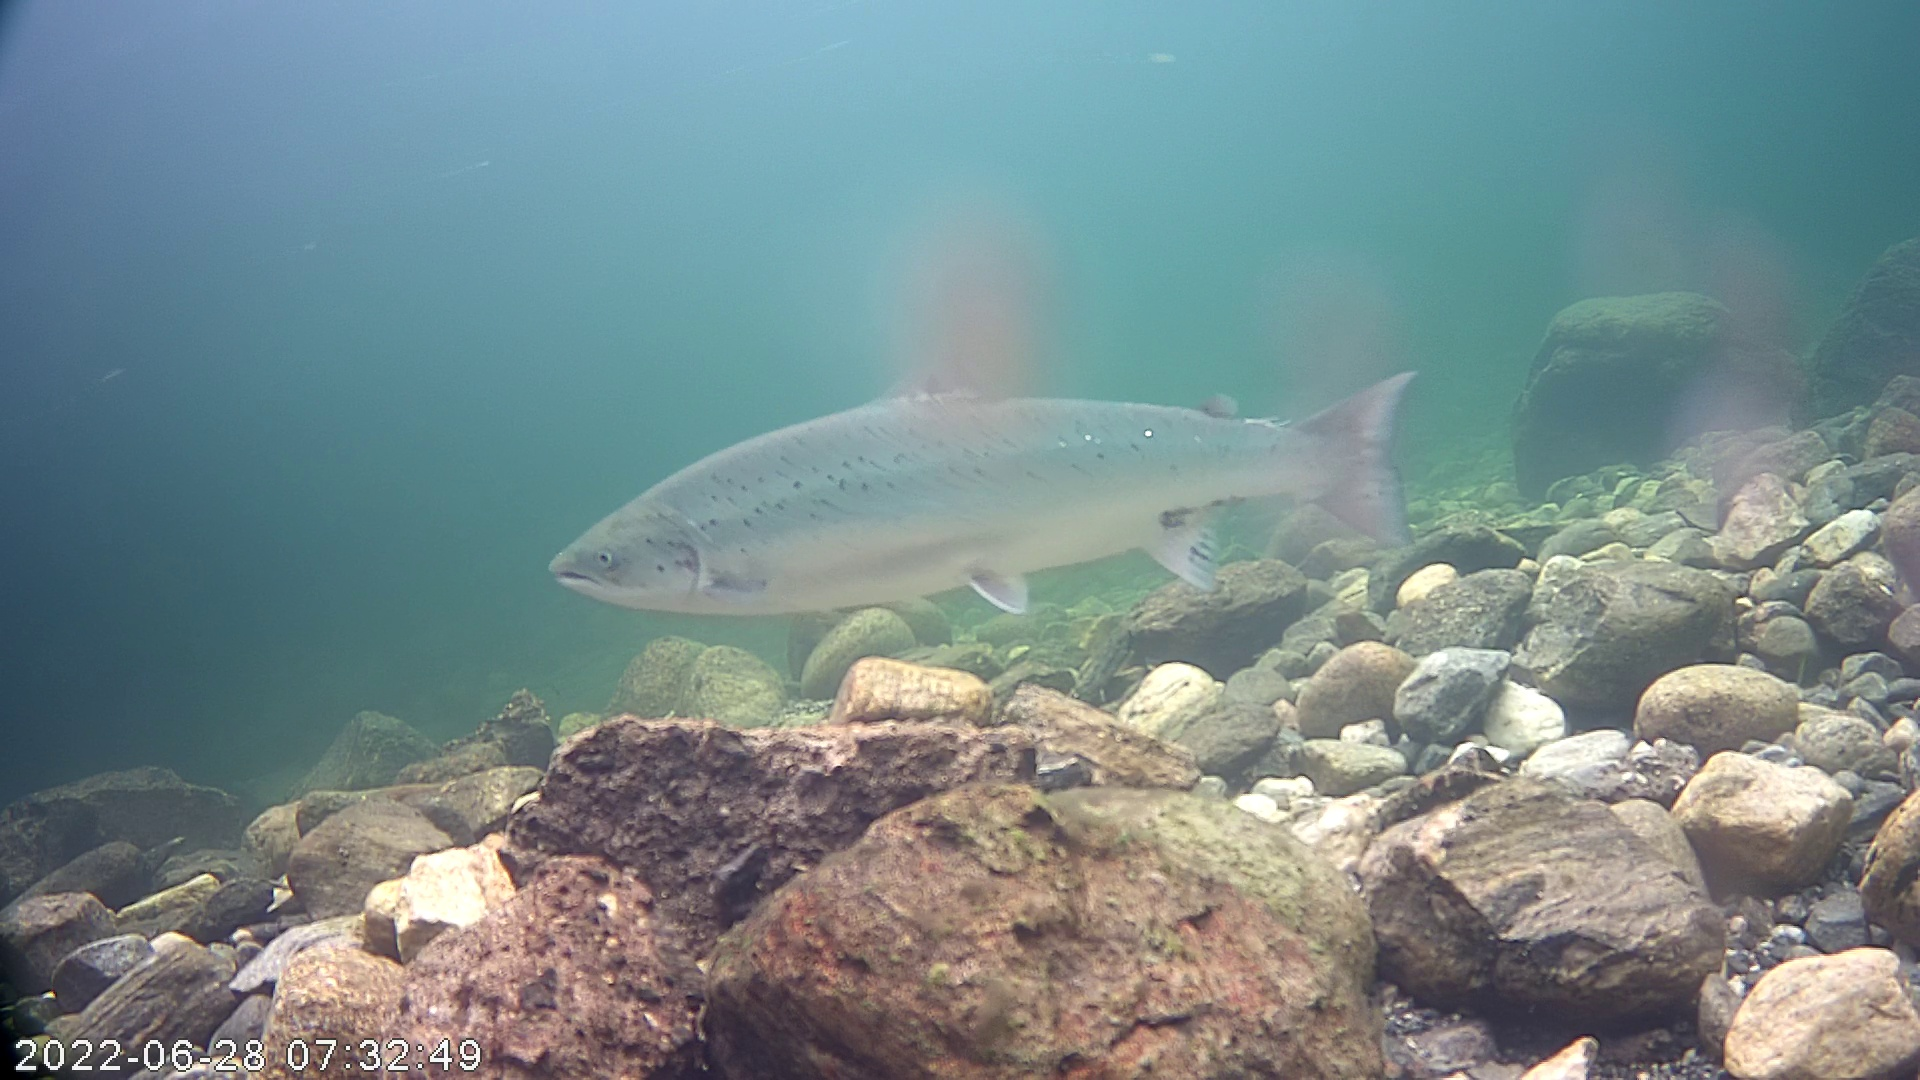salmon: (537, 224, 1443, 680)
